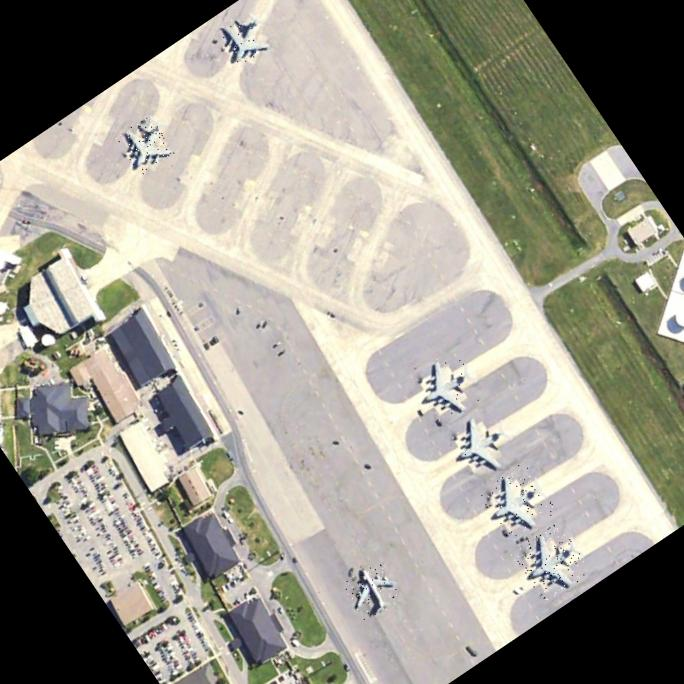A11: (338, 556, 405, 622)
A3: (509, 520, 593, 604), (476, 460, 557, 542), (406, 347, 486, 428), (442, 405, 522, 486), (115, 113, 176, 175), (215, 8, 273, 68)
